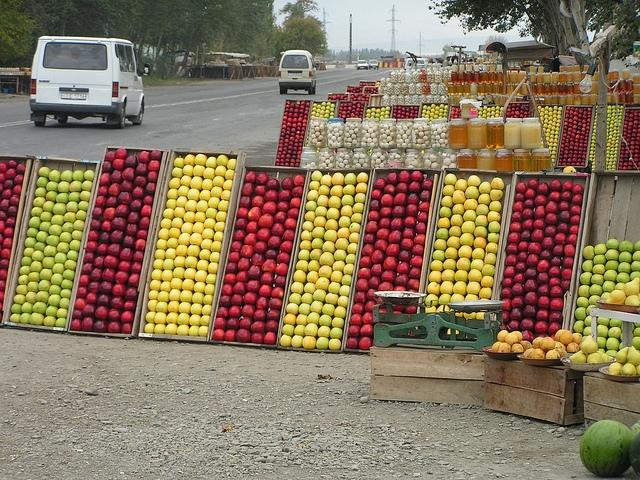apple: (202, 167, 225, 190), (240, 244, 256, 260), (115, 204, 130, 220), (262, 201, 277, 216), (226, 262, 240, 278), (384, 256, 398, 272), (319, 252, 335, 266), (258, 214, 274, 228), (114, 270, 130, 284), (396, 261, 412, 275), (96, 305, 110, 321), (256, 228, 272, 242), (248, 264, 262, 280), (440, 280, 454, 296), (456, 257, 471, 271), (233, 281, 247, 296), (398, 250, 413, 264), (315, 277, 330, 291), (489, 188, 504, 202), (260, 272, 274, 287), (464, 198, 479, 212), (458, 244, 473, 258), (98, 293, 112, 308), (262, 258, 276, 273), (536, 182, 550, 197), (81, 316, 94, 332), (618, 240, 634, 253), (250, 321, 266, 334), (541, 237, 555, 251), (398, 170, 412, 184), (112, 217, 126, 231), (124, 155, 138, 169), (608, 326, 622, 340), (102, 268, 116, 282), (536, 272, 550, 286), (122, 168, 136, 182), (537, 296, 551, 310), (30, 312, 44, 326), (460, 233, 474, 247), (228, 305, 242, 319), (606, 337, 620, 351), (253, 308, 267, 322), (274, 262, 288, 276), (388, 230, 402, 244), (242, 304, 256, 318), (371, 250, 385, 264), (81, 262, 95, 276), (382, 270, 396, 284), (524, 279, 538, 293), (550, 298, 564, 312), (134, 174, 148, 188), (276, 252, 290, 266), (40, 268, 54, 282), (470, 258, 484, 272), (462, 220, 476, 234), (534, 218, 548, 232), (524, 267, 539, 280), (190, 176, 203, 191), (318, 265, 333, 278), (251, 253, 266, 266), (236, 329, 251, 342), (393, 193, 408, 206), (362, 243, 375, 258), (99, 281, 114, 294), (520, 318, 536, 330), (252, 195, 264, 211), (32, 302, 48, 314), (271, 223, 285, 236), (313, 289, 327, 302), (468, 269, 482, 282), (524, 292, 538, 305), (466, 186, 480, 199), (544, 225, 558, 238), (60, 169, 74, 182), (110, 297, 124, 310), (259, 284, 272, 298), (247, 220, 260, 234), (266, 179, 280, 192), (130, 198, 143, 212), (177, 312, 190, 326), (335, 237, 349, 250), (441, 269, 455, 282), (232, 229, 246, 242), (266, 248, 280, 261), (310, 248, 323, 262), (198, 189, 212, 202), (352, 302, 365, 316), (500, 287, 514, 300), (535, 320, 548, 334), (99, 172, 112, 186), (538, 284, 551, 298), (442, 184, 456, 197), (443, 258, 457, 271), (254, 241, 268, 254), (324, 229, 337, 243), (322, 240, 336, 253), (288, 293, 302, 306), (488, 220, 501, 234), (550, 285, 564, 298), (307, 270, 320, 284), (528, 242, 542, 255), (48, 169, 62, 182), (110, 170, 123, 184), (328, 196, 341, 210), (466, 282, 481, 294), (395, 274, 410, 286), (590, 274, 605, 286), (473, 226, 488, 238), (409, 256, 424, 268), (333, 249, 348, 261), (108, 308, 121, 321), (307, 312, 320, 325), (205, 207, 218, 220), (219, 295, 232, 308), (326, 207, 339, 220), (381, 194, 394, 207), (548, 322, 561, 335), (356, 279, 369, 292), (489, 200, 502, 213), (407, 192, 420, 205), (386, 172, 399, 185), (178, 301, 191, 314), (196, 199, 209, 212), (280, 240, 293, 253), (108, 243, 120, 257), (452, 204, 466, 216), (122, 236, 136, 248), (408, 181, 422, 193), (557, 222, 569, 236), (169, 288, 181, 302), (268, 236, 282, 248), (290, 282, 304, 294), (125, 286, 137, 300), (294, 270, 306, 284), (44, 245, 58, 257), (428, 270, 442, 282), (52, 203, 66, 215), (93, 320, 107, 332), (618, 262, 632, 274), (390, 218, 404, 230), (128, 273, 140, 287), (38, 280, 52, 292), (325, 293, 339, 305), (358, 268, 372, 280), (559, 210, 571, 224), (32, 250, 46, 262), (332, 172, 344, 186), (108, 320, 120, 334), (604, 270, 618, 282), (48, 224, 62, 236), (606, 238, 620, 250), (534, 206, 546, 220), (236, 270, 248, 284), (304, 324, 318, 336), (438, 293, 452, 305), (199, 248, 211, 262), (68, 192, 82, 204), (194, 154, 208, 166), (178, 232, 190, 246), (294, 324, 306, 338), (256, 296, 268, 310), (266, 310, 280, 322), (242, 182, 254, 196), (475, 215, 489, 227), (424, 294, 438, 306), (48, 294, 62, 306), (120, 180, 134, 192), (54, 252, 68, 264), (278, 190, 292, 202), (500, 298, 512, 312), (136, 162, 148, 176), (378, 281, 394, 291), (247, 280, 260, 292), (284, 218, 297, 230), (464, 209, 476, 222), (545, 213, 558, 225), (553, 244, 565, 257), (244, 233, 256, 246), (25, 291, 37, 304), (619, 251, 632, 263), (392, 206, 405, 218), (434, 238, 447, 250), (341, 205, 353, 218), (319, 314, 332, 326), (27, 281, 40, 293), (104, 208, 116, 221), (51, 214, 64, 226), (332, 260, 345, 272), (444, 174, 457, 186), (193, 282, 206, 294), (227, 318, 240, 330), (376, 228, 389, 240), (208, 196, 220, 209), (286, 303, 299, 315), (214, 318, 227, 330), (181, 222, 194, 234), (508, 232, 521, 244), (597, 325, 609, 338), (445, 247, 458, 259), (154, 312, 167, 324), (449, 226, 462, 238), (478, 194, 491, 206), (325, 219, 338, 231), (439, 207, 452, 219), (193, 164, 206, 176), (171, 217, 184, 229), (549, 180, 562, 192), (264, 332, 276, 345), (39, 221, 52, 233), (580, 272, 592, 285), (205, 156, 218, 168), (162, 258, 175, 270), (512, 283, 524, 296), (506, 254, 518, 267), (548, 192, 561, 204), (175, 244, 188, 256), (550, 311, 562, 324), (59, 232, 72, 244), (167, 300, 180, 312), (228, 252, 241, 264), (70, 318, 82, 331), (140, 204, 152, 217), (31, 206, 44, 218), (322, 304, 335, 316), (268, 298, 282, 309), (328, 339, 342, 350), (276, 202, 290, 213), (38, 167, 52, 178), (46, 235, 60, 246), (133, 250, 144, 264), (120, 311, 134, 322), (190, 304, 202, 316), (468, 175, 480, 187), (156, 301, 168, 313), (244, 292, 256, 304), (182, 278, 194, 290), (578, 286, 590, 298), (348, 326, 360, 338), (510, 308, 522, 320), (112, 158, 124, 170), (151, 269, 163, 281), (414, 234, 426, 246), (422, 180, 434, 192), (343, 184, 355, 196), (436, 228, 448, 240), (342, 194, 354, 206), (216, 154, 228, 166), (504, 266, 516, 278), (237, 207, 249, 219), (2, 188, 14, 200), (304, 282, 316, 294), (415, 222, 427, 234), (134, 238, 146, 250), (167, 188, 179, 200), (404, 216, 416, 228), (37, 176, 49, 188), (562, 181, 574, 193), (210, 241, 222, 253), (160, 218, 172, 230), (366, 288, 378, 300), (320, 174, 332, 186), (308, 260, 320, 272), (318, 326, 330, 338), (58, 181, 70, 193), (96, 243, 108, 255), (332, 317, 344, 329), (132, 186, 144, 198), (314, 216, 326, 228), (101, 220, 113, 232), (61, 278, 73, 290), (86, 241, 98, 253), (150, 280, 162, 292), (184, 268, 196, 280), (176, 196, 188, 208), (518, 251, 530, 263), (200, 238, 212, 250), (510, 222, 522, 234), (147, 300, 159, 312), (202, 294, 214, 306), (189, 314, 201, 326), (474, 237, 486, 249), (356, 182, 368, 194), (339, 216, 351, 228), (174, 206, 186, 218), (306, 200, 318, 212), (180, 175, 192, 187), (522, 208, 534, 220), (593, 254, 606, 265), (43, 316, 56, 327), (145, 182, 156, 195), (170, 278, 183, 289), (402, 228, 415, 239), (472, 248, 485, 259), (318, 185, 331, 196), (162, 208, 175, 219), (202, 228, 215, 239), (95, 195, 106, 208), (84, 169, 95, 182), (254, 185, 267, 196), (230, 241, 243, 252), (575, 307, 586, 320), (430, 260, 443, 271), (592, 264, 606, 274), (300, 229, 312, 240), (294, 175, 306, 186), (218, 200, 229, 212), (197, 260, 209, 271), (64, 212, 76, 223), (156, 239, 168, 250), (7, 206, 18, 218), (298, 249, 310, 260), (300, 240, 312, 251), (516, 262, 528, 273), (160, 281, 172, 292), (172, 167, 184, 178), (136, 229, 148, 240), (364, 233, 376, 244), (304, 211, 316, 222), (77, 286, 88, 298), (540, 250, 552, 261), (26, 227, 38, 238), (80, 190, 91, 202), (312, 238, 324, 249), (339, 284, 350, 296), (46, 191, 58, 202), (418, 202, 430, 213), (151, 150, 162, 162), (75, 298, 86, 310), (201, 304, 212, 316), (63, 269, 75, 280), (33, 197, 46, 207), (19, 266, 32, 276), (216, 211, 227, 222), (572, 194, 583, 205), (76, 210, 87, 221), (121, 323, 132, 334), (214, 221, 225, 232), (189, 325, 200, 336), (16, 163, 27, 174), (369, 210, 380, 221), (208, 262, 218, 274), (349, 232, 359, 244), (10, 194, 20, 206), (372, 188, 382, 200), (514, 192, 526, 202), (1, 248, 11, 260), (12, 184, 22, 196), (296, 314, 308, 324), (290, 198, 302, 208), (223, 179, 233, 191), (226, 158, 236, 170), (550, 256, 562, 266), (0, 258, 10, 270), (312, 170, 322, 182), (67, 250, 79, 260), (210, 251, 220, 263), (14, 294, 26, 304), (60, 297, 70, 309), (632, 336, 640, 350), (450, 294, 464, 302), (72, 230, 83, 240), (5, 217, 16, 227), (7, 160, 18, 170), (521, 230, 531, 241), (5, 168, 16, 178), (174, 158, 185, 168), (204, 284, 215, 294), (631, 260, 640, 272), (4, 180, 14, 190), (518, 242, 528, 252), (526, 188, 536, 198), (24, 247, 34, 257), (503, 311, 510, 324), (10, 314, 21, 322), (464, 294, 478, 300), (393, 286, 407, 292), (4, 228, 14, 236), (584, 316, 592, 326), (597, 348, 605, 354), (619, 342, 623, 350), (454, 111, 460, 116), (515, 110, 520, 116), (376, 108, 381, 114), (374, 113, 380, 118), (286, 122, 292, 127), (343, 107, 348, 112), (292, 123, 297, 128), (311, 111, 316, 116), (366, 109, 371, 114), (568, 154, 573, 159), (326, 102, 332, 106), (520, 106, 526, 110), (580, 162, 586, 166), (540, 108, 546, 112), (491, 106, 495, 112), (552, 118, 558, 122), (482, 114, 487, 118), (325, 110, 330, 114), (625, 146, 630, 150), (283, 147, 288, 151), (568, 124, 573, 128), (606, 142, 610, 147), (299, 110, 304, 114), (572, 129, 577, 133), (546, 132, 550, 137), (540, 116, 544, 121), (578, 144, 584, 147), (622, 136, 628, 139), (634, 112, 638, 116), (507, 108, 511, 112), (348, 103, 352, 107), (606, 121, 610, 125), (606, 158, 610, 162), (291, 132, 295, 136), (397, 114, 401, 118), (614, 123, 618, 127), (570, 114, 574, 118), (624, 162, 628, 166), (406, 112, 410, 116), (544, 124, 548, 128), (627, 134, 631, 138), (398, 110, 402, 114), (439, 113, 443, 117), (611, 116, 615, 120), (362, 94, 366, 98), (557, 115, 561, 119), (431, 109, 435, 113), (357, 97, 361, 101), (587, 114, 591, 118), (570, 138, 574, 142), (576, 134, 580, 138), (338, 110, 342, 114), (422, 113, 426, 117), (613, 130, 617, 133), (628, 159, 632, 162), (300, 136, 304, 139), (624, 125, 628, 128), (356, 90, 359, 92)
pear: (580, 332, 598, 354), (606, 290, 627, 305), (540, 336, 556, 352), (616, 347, 630, 364), (570, 352, 588, 363), (620, 364, 636, 376), (587, 352, 603, 364), (504, 333, 518, 346), (608, 363, 622, 375), (576, 296, 590, 308), (531, 348, 546, 359), (625, 295, 640, 306), (580, 272, 592, 285), (519, 341, 533, 352), (605, 260, 619, 271), (545, 350, 561, 359), (532, 337, 544, 349), (555, 329, 566, 342), (566, 342, 580, 352), (497, 330, 508, 342), (597, 316, 610, 326), (512, 331, 522, 343), (572, 332, 582, 344), (600, 354, 614, 362), (492, 342, 502, 352), (512, 344, 524, 352)
watermelon: (580, 419, 636, 477), (630, 420, 640, 437)
